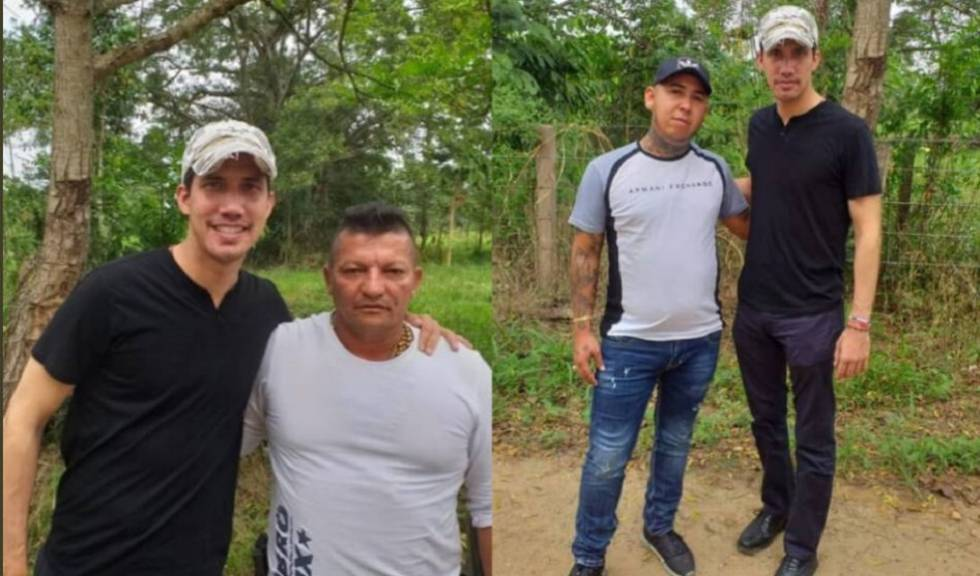person: (261, 196, 508, 442), (89, 110, 295, 360), (570, 59, 712, 245), (750, 25, 895, 196)
